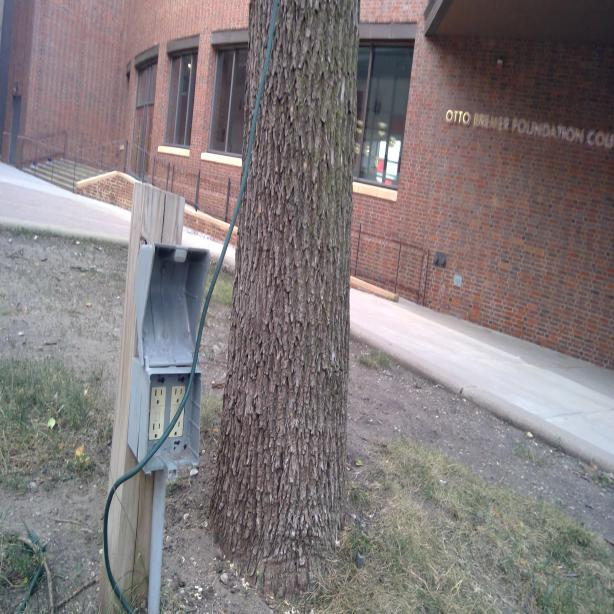typeb: (151, 383, 165, 408), (150, 421, 164, 440), (174, 383, 184, 405), (172, 419, 181, 437)
